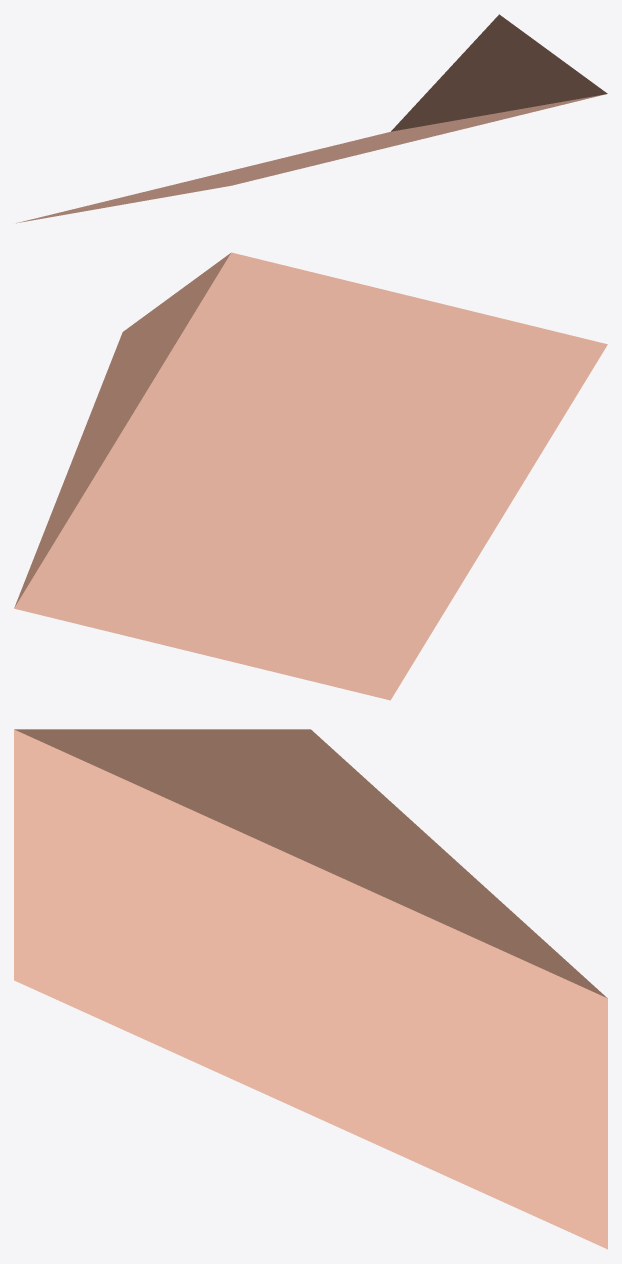
The model's file is terrain_ramp.glb.
3 renders of one model, top to bottom at view 1: azimuth 30°, elevation 25°; view 2: azimuth 150°, elevation 25°; view 3: azimuth 270°, elevation 25°, orthographic. The views are drawn at different scales.
Parts seen in each view (by area): view 1: terrain_ramp; view 2: terrain_ramp; view 3: terrain_ramp.
Boxes of the visible parts, x1,y1,x2,y2 form: terrain_ramp: [16, 14, 607, 223]; terrain_ramp: [14, 252, 607, 700]; terrain_ramp: [14, 729, 607, 1249].
Size of the model in its own units: 1 by 0.5 by 1.
1 material, 1 textured.
